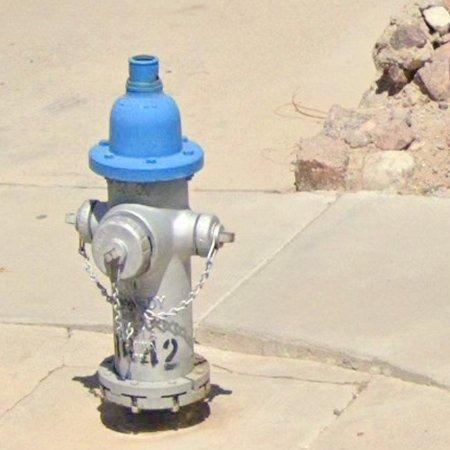a fire hydrant: (72, 54, 234, 413)
